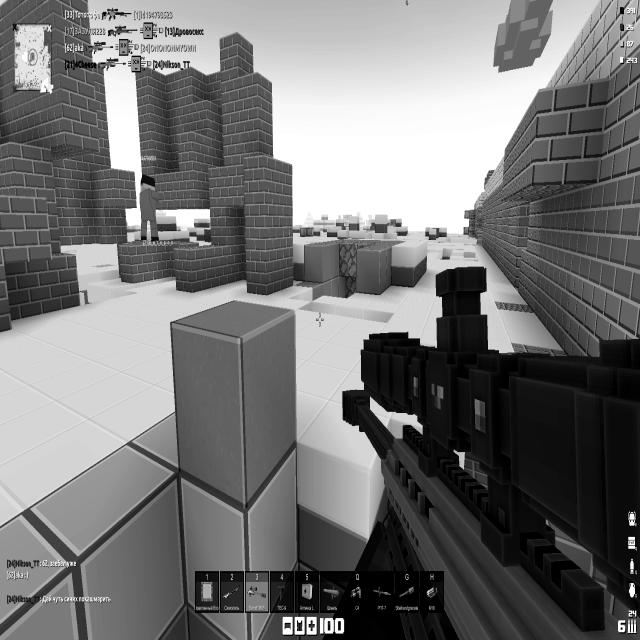Head: (140, 174, 155, 189)
Player: (139, 173, 160, 244)
